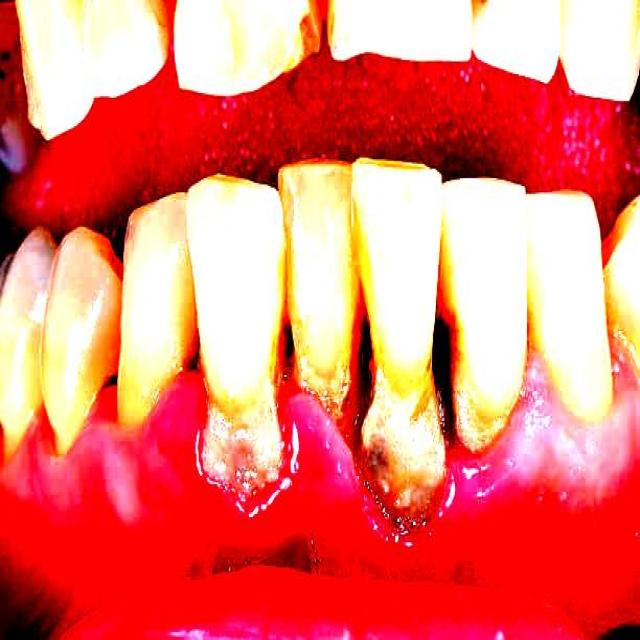caries: (430, 310, 484, 438), (353, 299, 380, 404), (277, 312, 299, 372)
